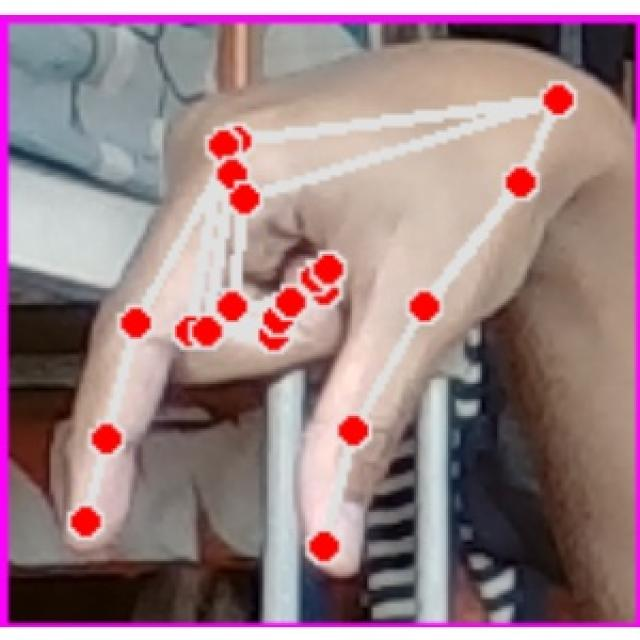Q: (53, 37, 591, 582)
